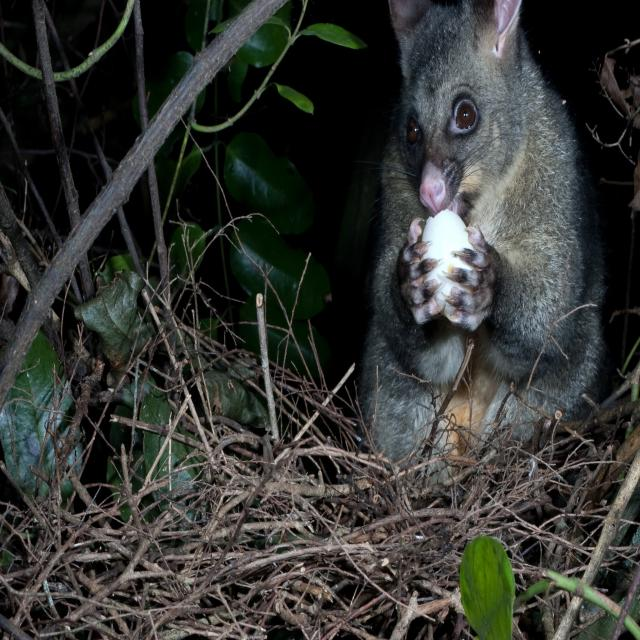Possum: (359, 0, 599, 472)
